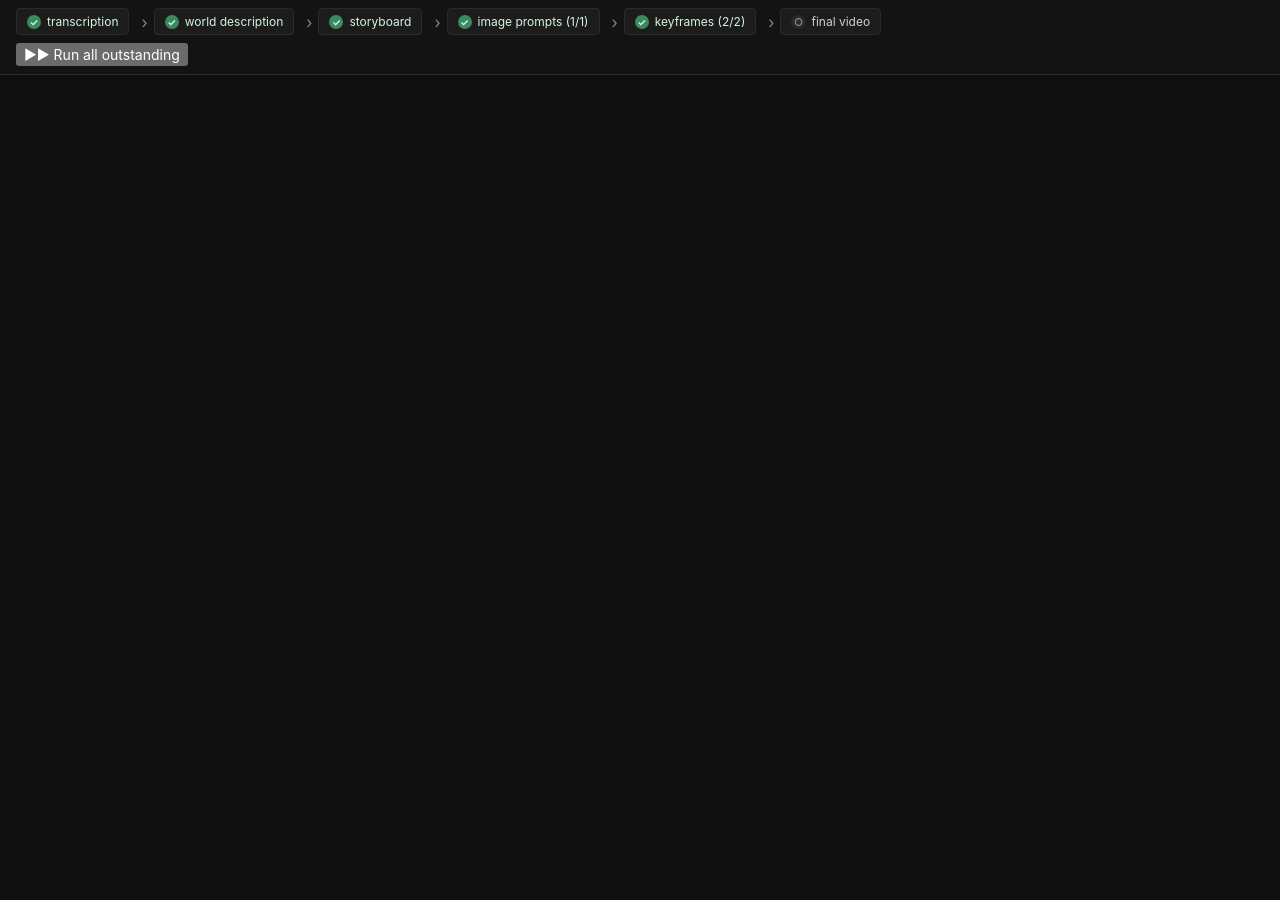
Test: PipelinePanel › clicking a done image-prompts segment opens a regen-confirmation modal
The width and height of the screenshot is (1280, 900).
Click the button "✓ image prompts (1/1)".
click(523, 22)  # box [446,8,600,35]
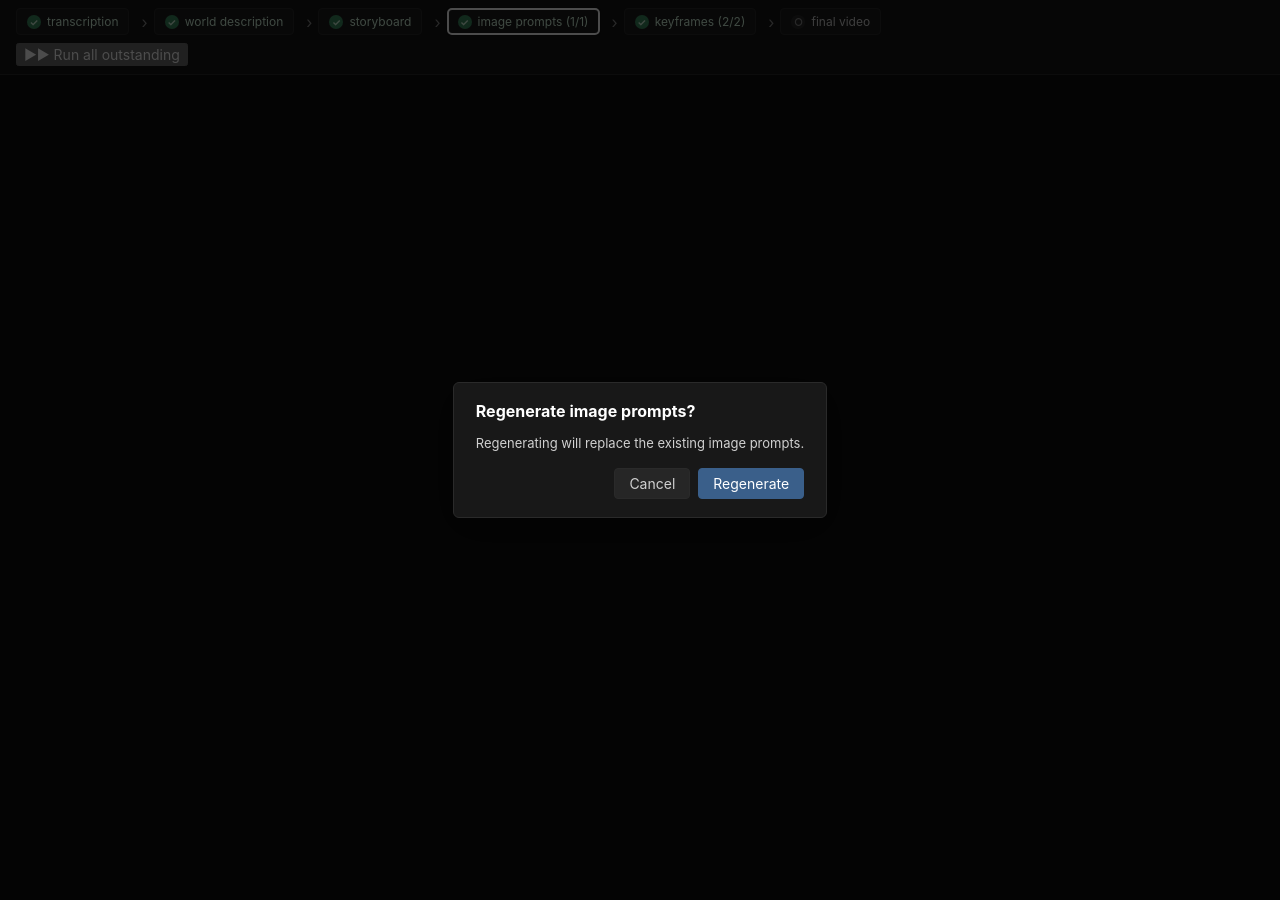
Expected: the heading "Regenerate image prompts?" is shown, [476,401,695,421]
Expected: the text "replace the existing image prompts" is shown, [476,435,804,451]
